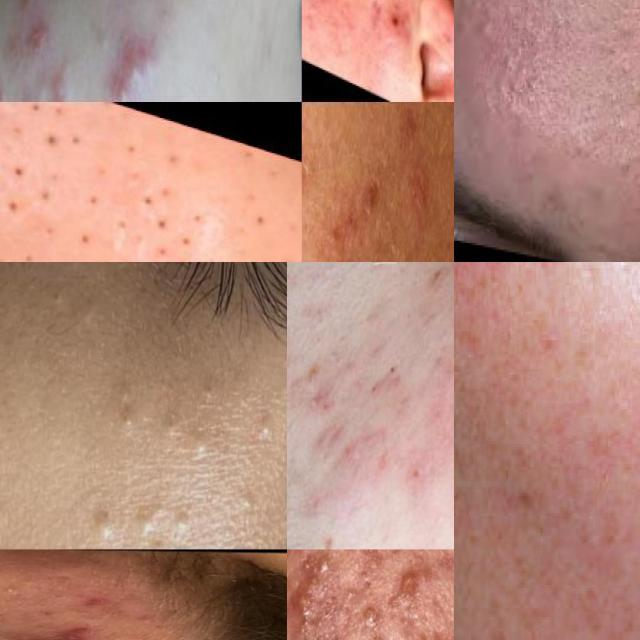acne_scars: (301, 0, 323, 11)
comedone: (454, 0, 572, 164), (112, 172, 214, 237), (132, 202, 206, 262), (32, 117, 94, 164), (130, 493, 169, 549), (104, 130, 151, 172), (225, 480, 266, 528), (0, 183, 29, 246), (112, 378, 141, 440), (0, 150, 42, 191), (302, 352, 326, 420), (251, 408, 287, 446), (87, 496, 121, 536), (184, 422, 217, 460), (187, 366, 226, 398), (66, 223, 101, 257), (247, 205, 280, 237), (41, 264, 66, 306), (76, 184, 111, 213), (33, 181, 63, 211), (172, 499, 192, 535), (138, 536, 178, 549), (0, 581, 25, 596), (0, 498, 11, 531), (31, 608, 66, 618), (46, 589, 65, 602)
cystic: (115, 18, 164, 98)
papule: (23, 10, 54, 65), (396, 552, 419, 616), (314, 245, 365, 262)
pustule: (344, 596, 382, 640), (46, 58, 74, 102), (11, 0, 42, 34), (104, 76, 135, 102), (0, 67, 6, 102)
sebo-crystan-conglo: (292, 550, 326, 622), (26, 13, 54, 68)
